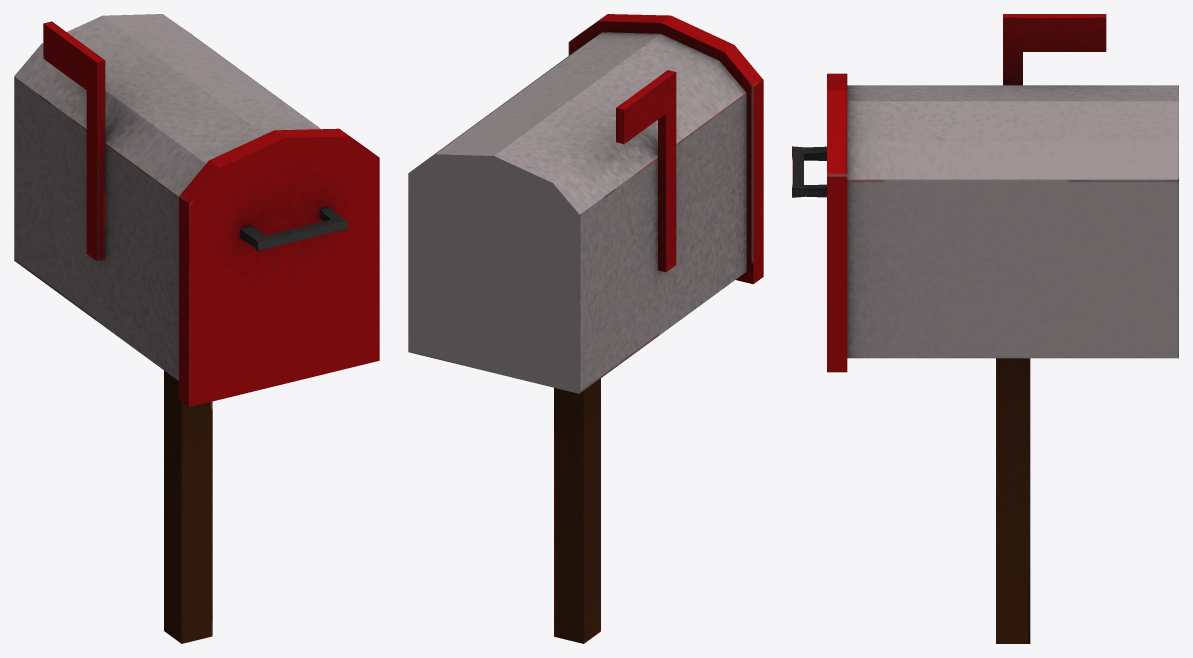
The model's file is mailbox.fbx.
3 views of the same model, side by side, from view 1: azimuth 30°, elevation 25°; view 2: azimuth 150°, elevation 25°; view 3: azimuth 270°, elevation 25° (orthographic). The views are drawn at different scales.
Visible parts, largest first — view 1: Cube; view 2: Cube; view 3: Cube.
Part boxes in pixels (left/top/right/bottom): Cube: left=14, top=14, right=379, bottom=643; Cube: left=408, top=14, right=763, bottom=643; Cube: left=792, top=14, right=1178, bottom=643.
Bounding box in the file's own units: 1.06 × 3.17 × 1.93.
1 material, 1 textured.
